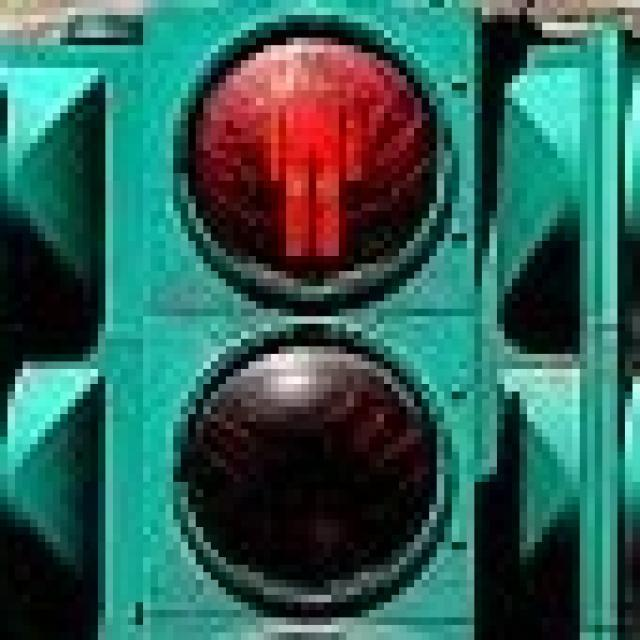red_light: (226, 38, 391, 264)
